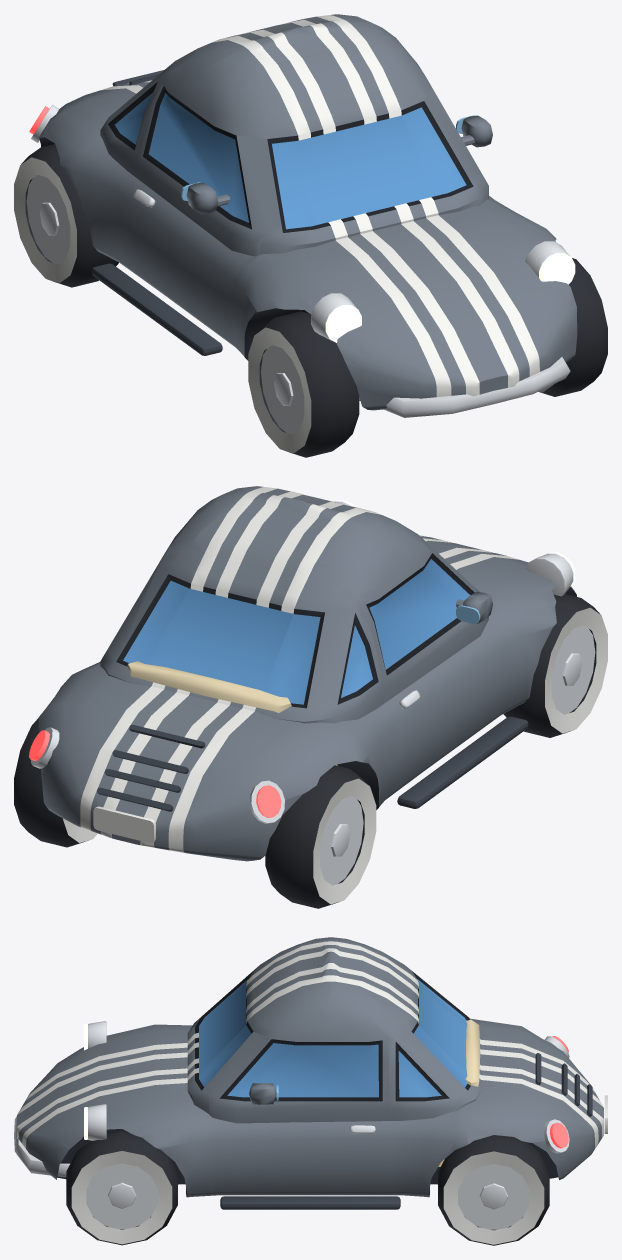
The model's file is carrinho_redondo_cinza_listrado.glb.
3 renders of one model, top to bottom at view 1: azimuth 30°, elevation 25°; view 2: azimuth 150°, elevation 25°; view 3: azimuth 270°, elevation 25°, orthographic. The views are drawn at different scales.
Visible parts, largest first — view 1: carrinho_redondo_cinza_listrado, porta_dianteira_esq, roda_dianteira_esq, roda_traseira_esq, roda_dianteira_dir, porta_dianteira_dir; view 2: carrinho_redondo_cinza_listrado, porta_dianteira_esq, roda_traseira_esq, roda_dianteira_esq, roda_traseira_dir; view 3: carrinho_redondo_cinza_listrado, porta_dianteira_dir, roda_dianteira_dir, roda_traseira_dir.
Boxes of the visible parts, x1,y1,x2,y2 form: carrinho_redondo_cinza_listrado: (29, 14, 577, 417); porta_dianteira_esq: (121, 82, 280, 345); roda_dianteira_esq: (248, 311, 359, 457); roda_traseira_esq: (14, 144, 118, 287); roda_dianteira_dir: (538, 258, 607, 396); porta_dianteira_dir: (424, 88, 500, 203); carrinho_redondo_cinza_listrado: (29, 486, 576, 861); porta_dianteira_esq: (360, 540, 514, 790); roda_traseira_esq: (265, 765, 376, 908); roda_dianteira_esq: (503, 594, 607, 737); roda_traseira_dir: (14, 718, 97, 847); carrinho_redondo_cinza_listrado: (14, 937, 607, 1209); porta_dianteira_dir: (209, 1031, 388, 1194); roda_dianteira_dir: (66, 1131, 177, 1245); roda_traseira_dir: (438, 1135, 549, 1245).
Size of the model in its own units: 1.84 by 1.59 by 3.63.
Materials: 4 (1 with a texture image).
